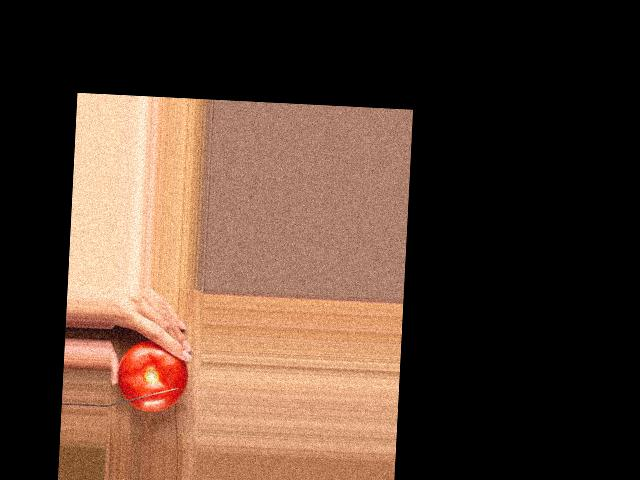tomato: (116, 338, 189, 412)
